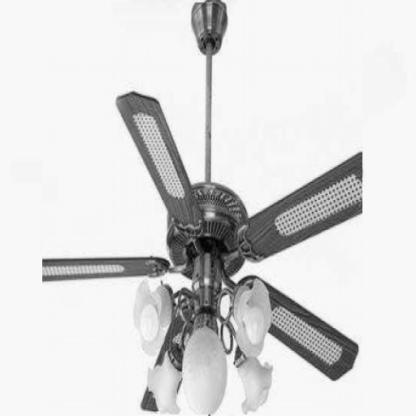ceiling-fan: (42, 2, 363, 416)
